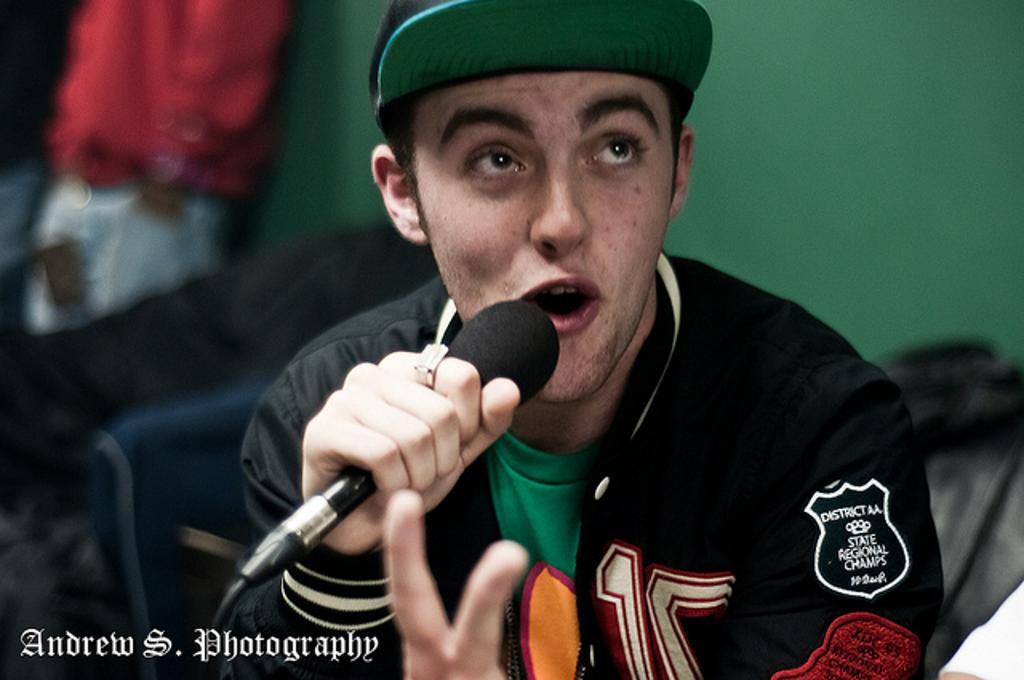face: (416, 60, 662, 388)
